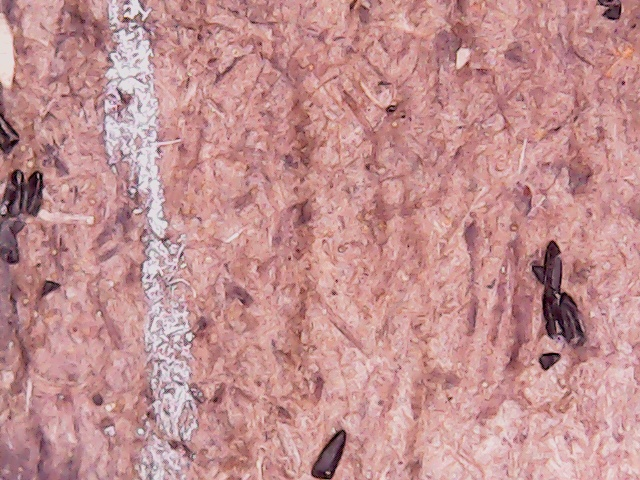full: (310, 412, 349, 480), (541, 296, 587, 348), (535, 237, 571, 291), (2, 163, 28, 231), (26, 168, 49, 219)
